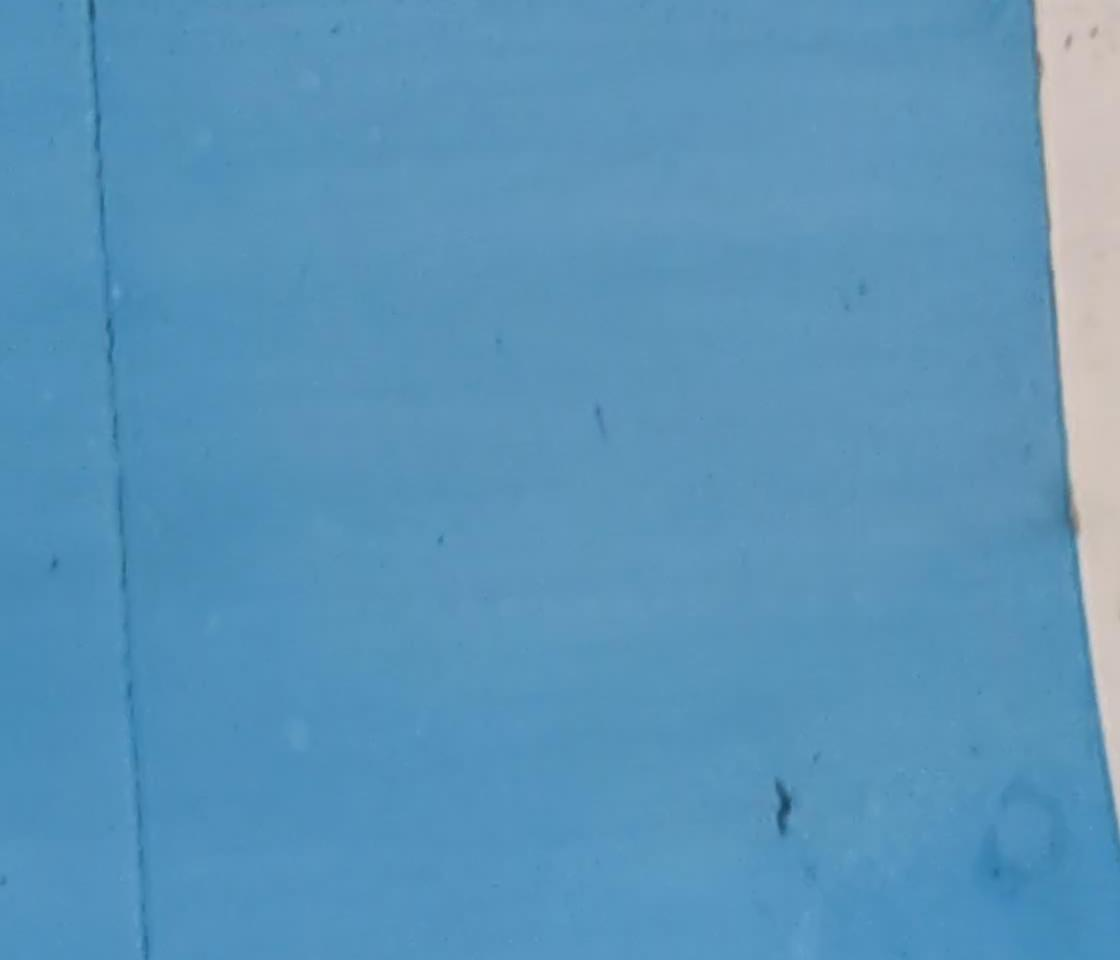scratch: (767, 776, 797, 837)
